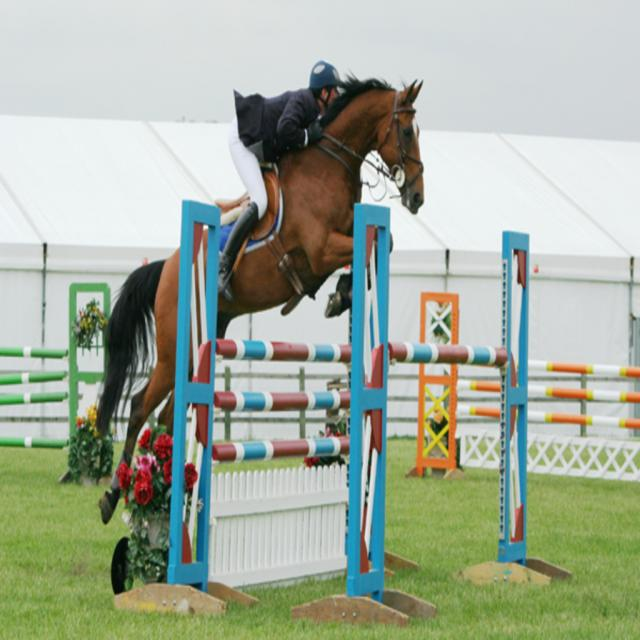Horse: (95, 71, 425, 524)
